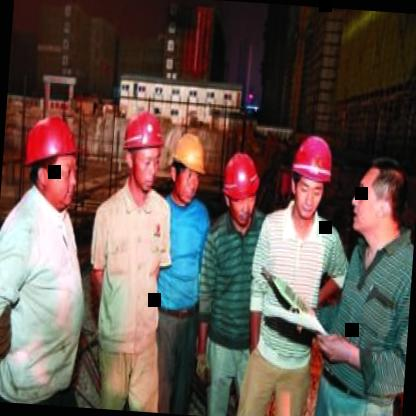helmet: (22, 111, 84, 214), (119, 110, 168, 197), (288, 131, 334, 223), (220, 150, 262, 230), (169, 128, 209, 208)
